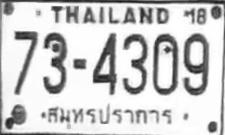0: (152, 33, 178, 95)
3: (121, 33, 148, 95), (41, 31, 67, 93)
4: (91, 32, 116, 94)
7: (12, 30, 38, 94)
9: (182, 32, 209, 96)
SPK: (44, 101, 176, 129)
